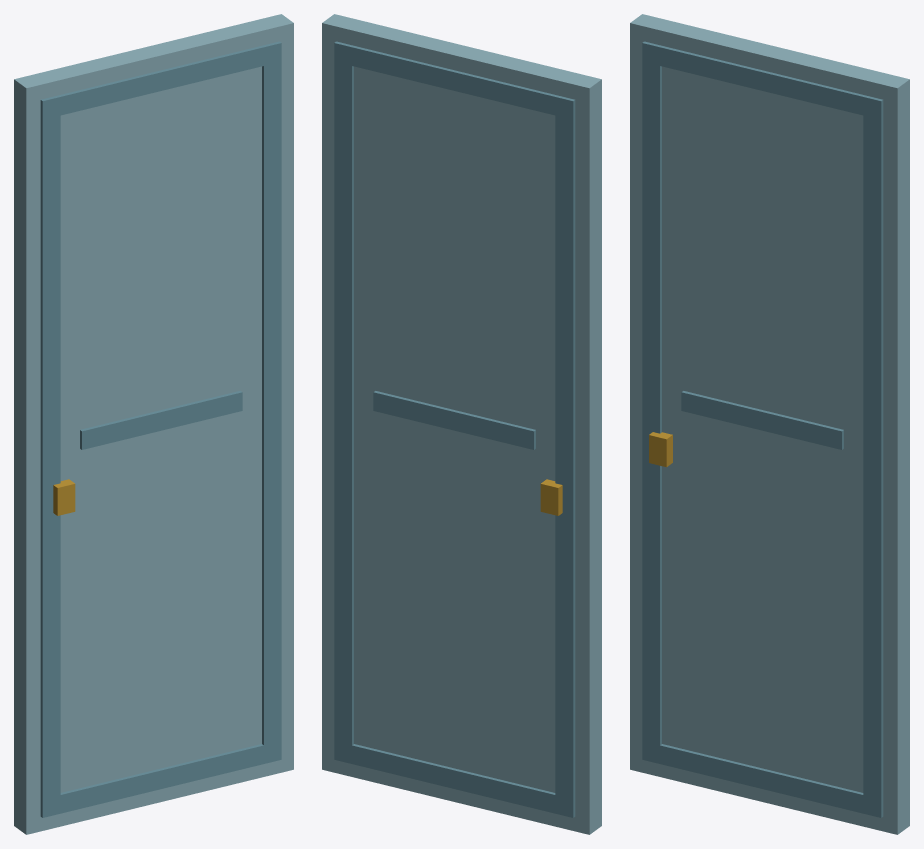
File: ncb-bath-door-right.glb
The picture shows the model from 3 angles, left to right: view 1: azimuth 30°, elevation 25°; view 2: azimuth 150°, elevation 25°; view 3: azimuth 330°, elevation 25°; orthographic projection.
Visible parts, largest first — view 1: part-leaf; view 2: part-leaf; view 3: part-leaf.
Boxes of the visible parts, <box> form: part-leaf: <box>14,14,293,834</box>; part-leaf: <box>322,14,601,834</box>; part-leaf: <box>630,14,909,834</box>.
Size of the model in its own units: 1.5 by 4 by 0.24.
